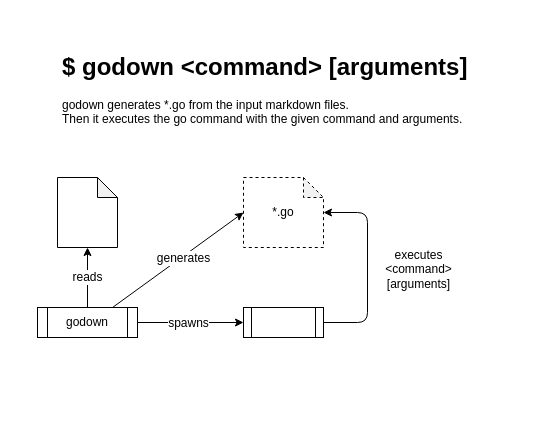
This 554x424 diagram has some shape labels left out. The box of each missing label's shape, as (x1, y1, x2, y2) in pixels:
*.md: (56, 176, 118, 248)
go: (242, 306, 324, 338)
